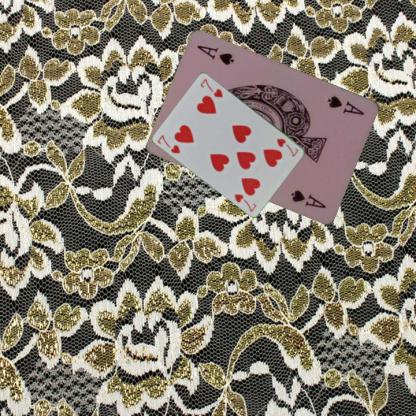7h: (155, 132, 181, 155), (274, 136, 300, 158)
As: (325, 93, 366, 116)
